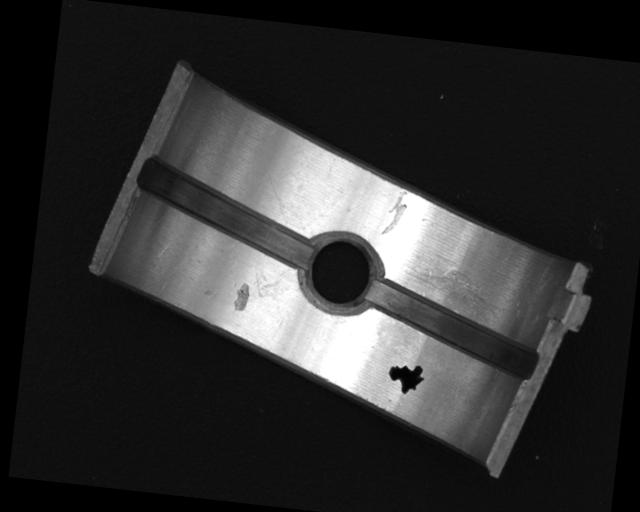blot: (385, 361, 425, 397)
bruise: (231, 281, 251, 313)
gap: (131, 158, 321, 269), (362, 282, 542, 380)
hole: (303, 234, 383, 316)
nick: (379, 187, 409, 238)
scratch: (401, 260, 507, 323)
